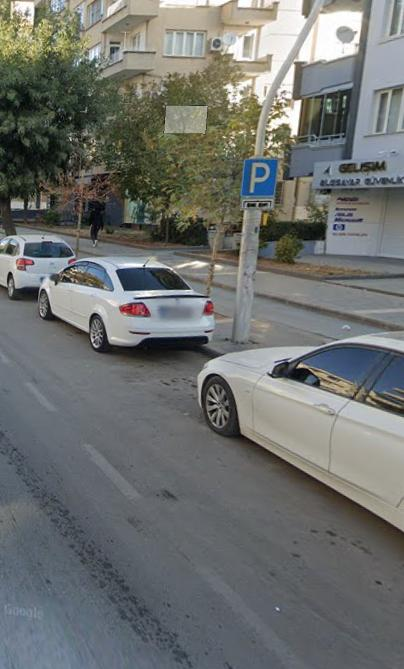park: (245, 158, 273, 196)
